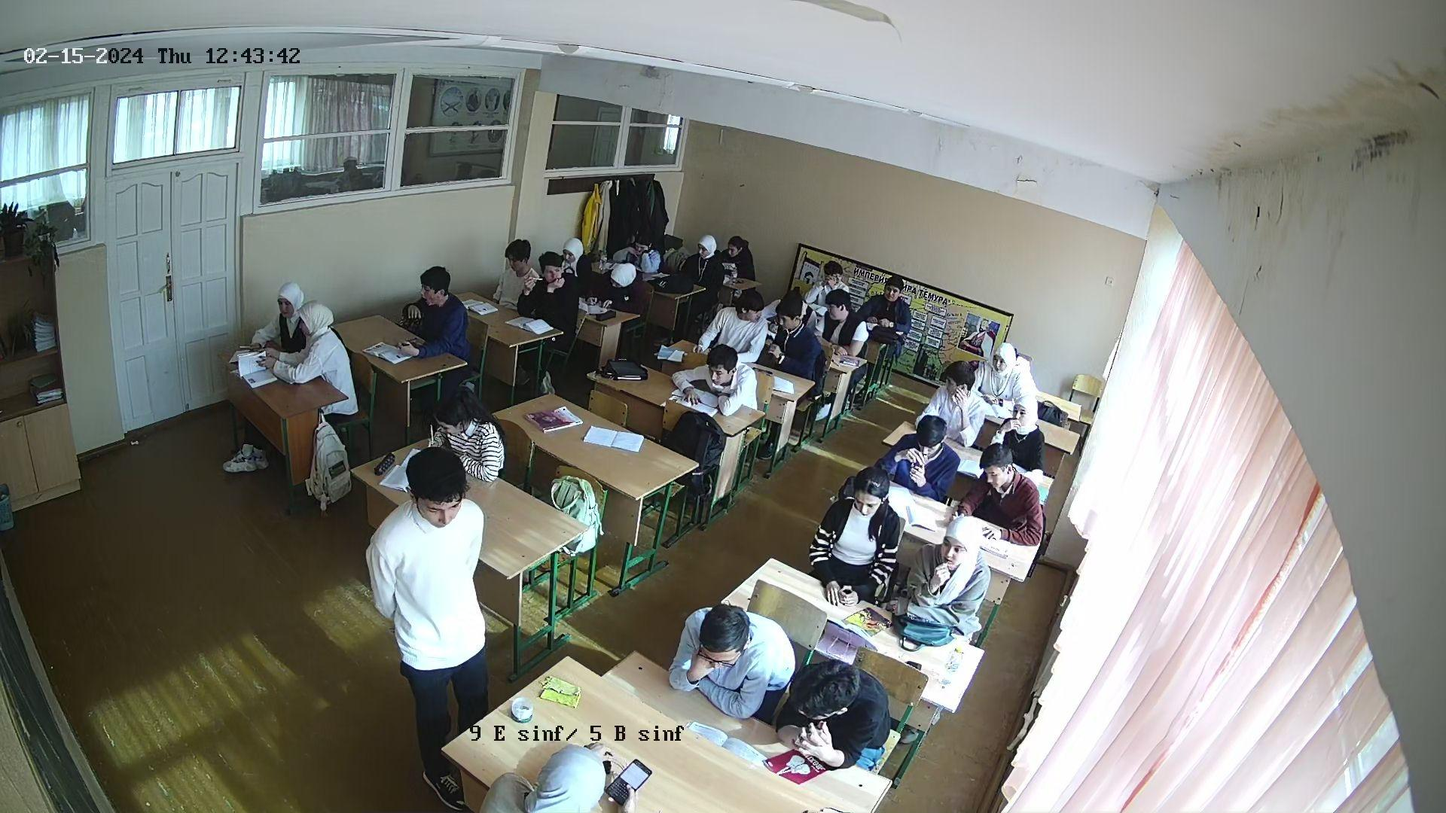Bend Over The Desk: (786, 666, 883, 778), (679, 604, 762, 722), (679, 349, 753, 416)
Look Around: (533, 254, 576, 302), (730, 291, 770, 338), (943, 356, 979, 407)
Stand Up: (371, 452, 500, 709)
phone: (604, 750, 658, 813)
